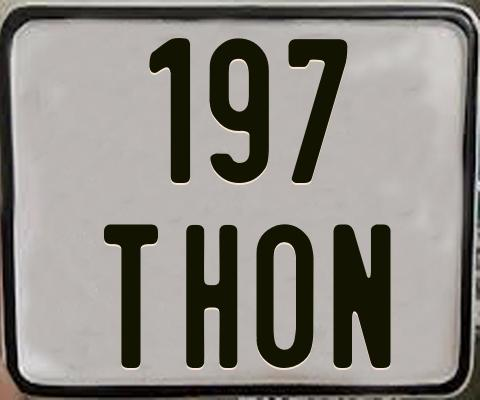0: (253, 222, 317, 366)
1: (149, 38, 196, 189)
7: (286, 37, 351, 187)
9: (206, 37, 267, 182)
H: (183, 223, 238, 366)
N: (332, 224, 394, 374)
T: (101, 224, 159, 369)
